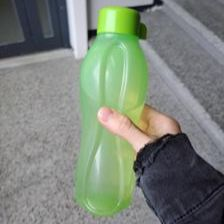bottle: (73, 4, 151, 217)
